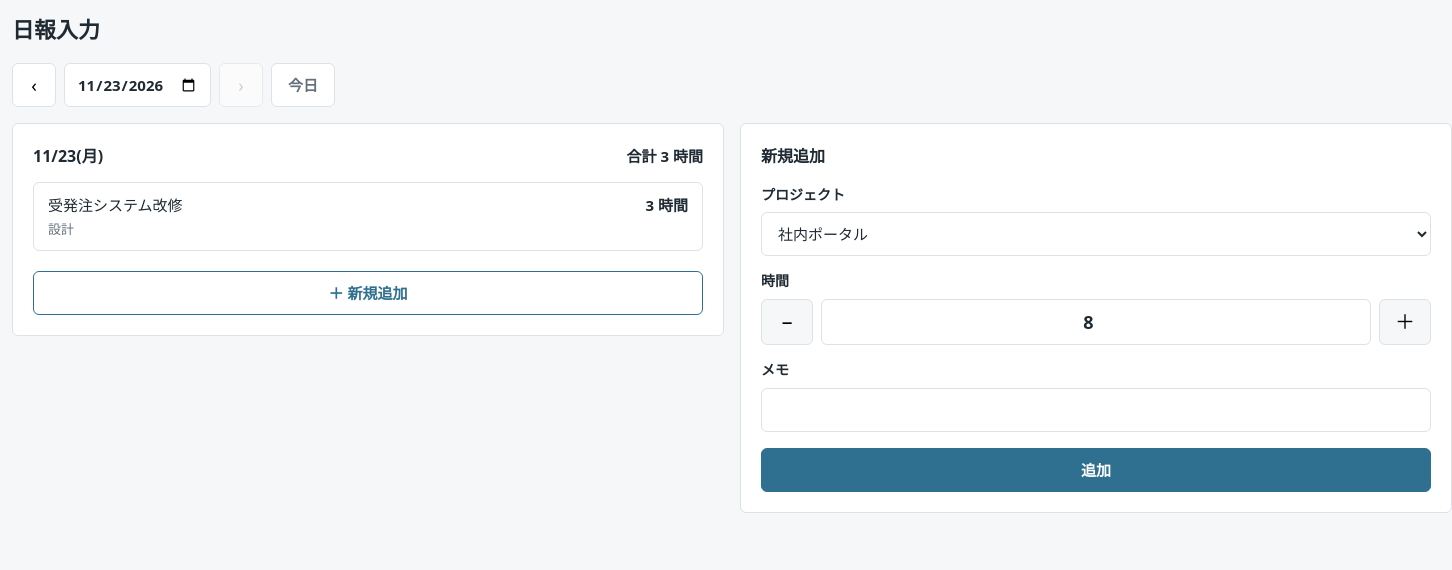
Test: 編集 › 左で登録済みのものを押すと、右にその内容が入る(プロジェクトは変えられない)
The width and height of the screenshot is (1452, 570).
Click the button "受発注システム改修 3 時間 設計": (115, 205) [33,182,703,251]
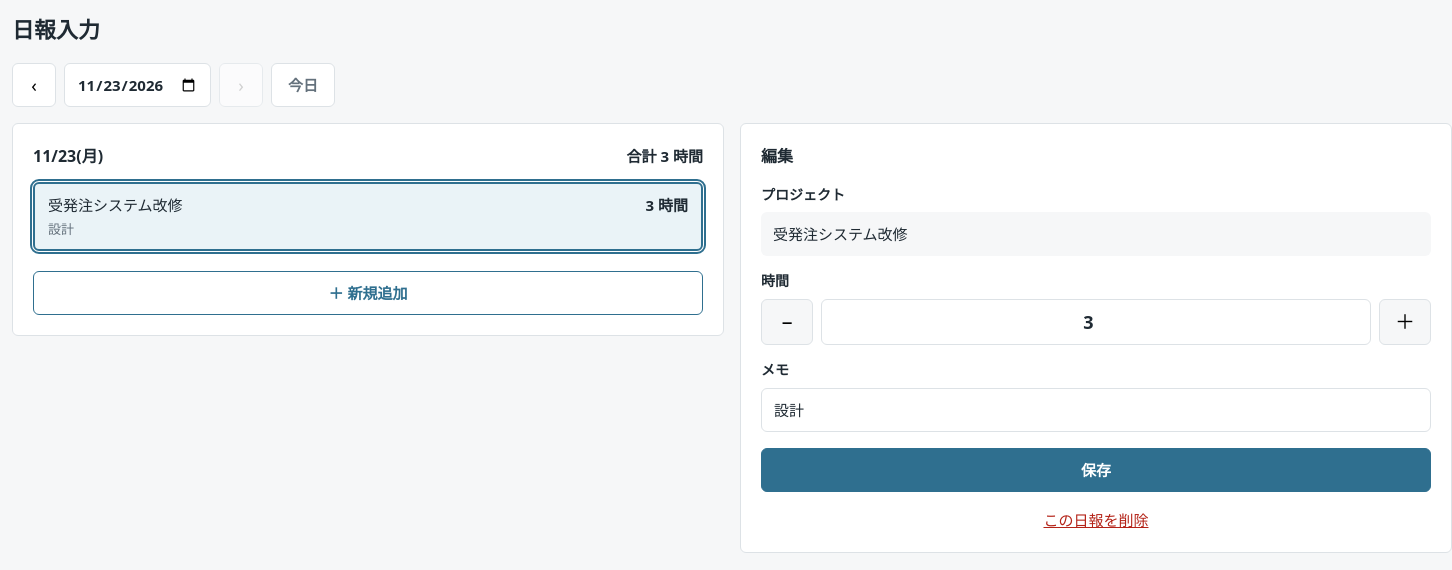
Expected: the text "受発注システム改修" below "プロジェクト" is shown, [773,224,908,244]
Expected: the number field labelled "時間" holds "3", [821,299,1371,345]
Expected: the field labelled "メモ" holds "設計", [761,388,1431,432]
